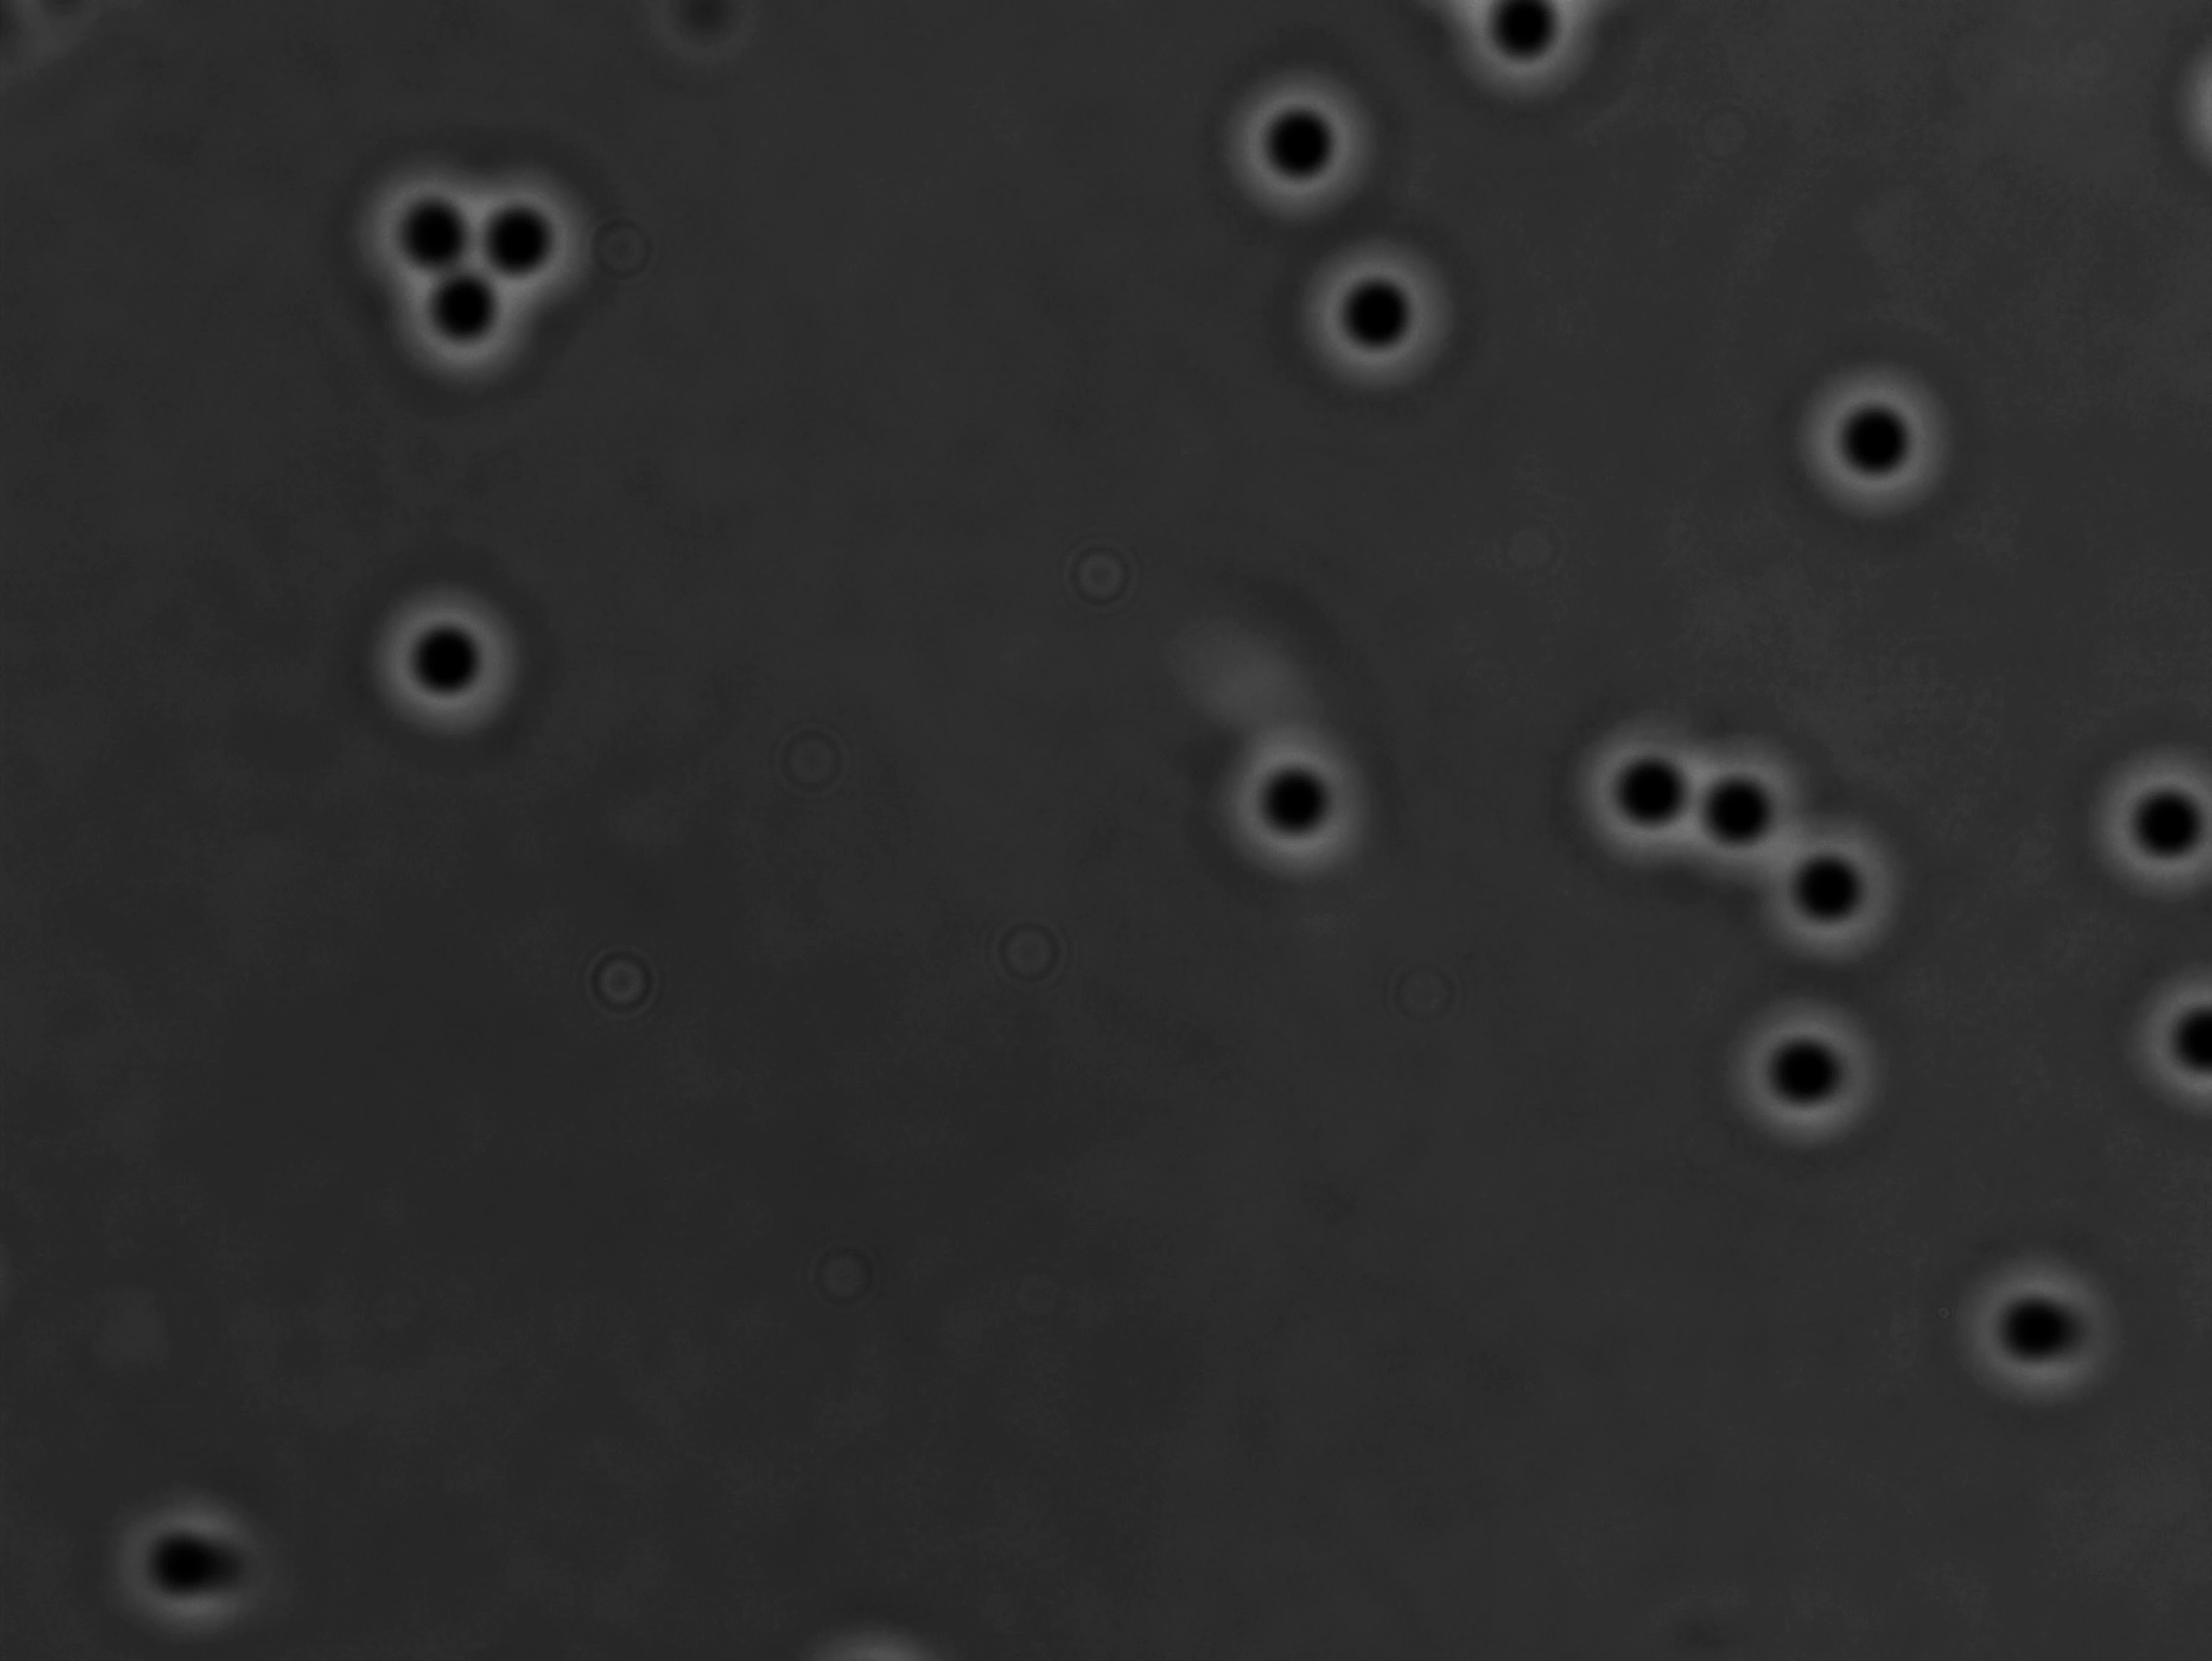depth:-80: (1711, 975, 1901, 1176), (356, 569, 550, 764), (1202, 715, 1404, 897), (1938, 1230, 2128, 1420), (1273, 218, 1464, 407), (1570, 705, 1771, 883), (1202, 61, 1403, 234), (1657, 705, 1837, 892), (1788, 354, 1978, 530), (1751, 799, 1933, 972), (438, 148, 618, 321), (375, 239, 558, 394), (342, 145, 511, 309), (2074, 736, 2212, 925)
